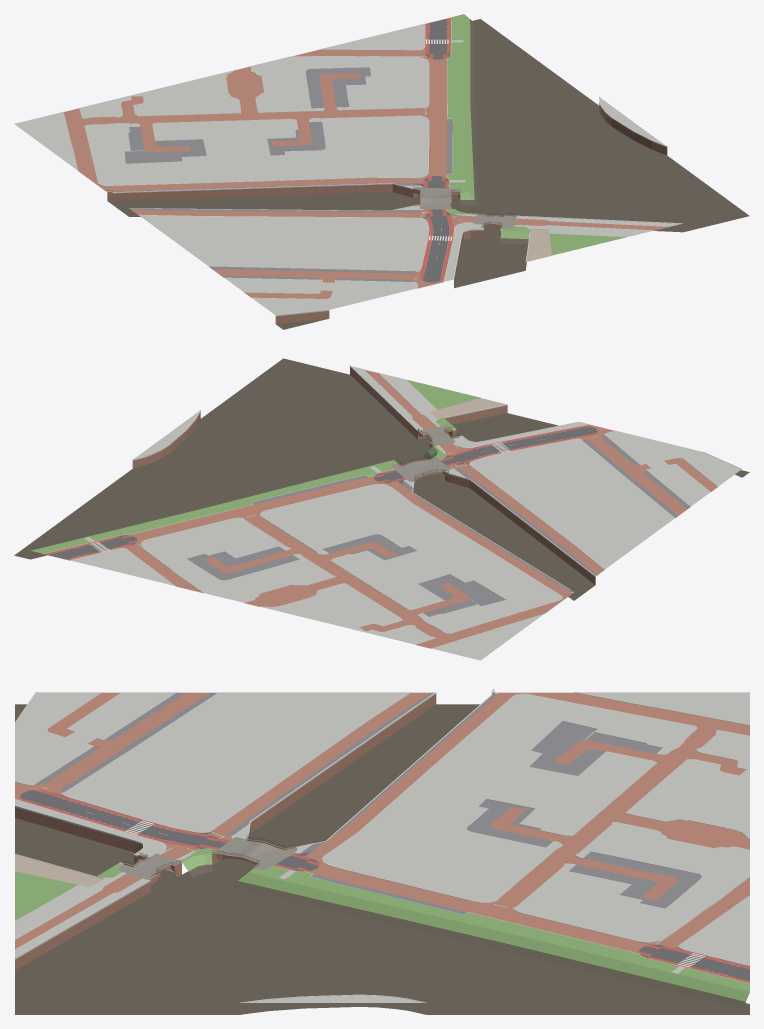
Rendered from ground_11_11.glb.
3 views of the same model, one above another, from view 1: azimuth 30°, elevation 25°; view 2: azimuth 150°, elevation 25°; view 3: azimuth 270°, elevation 25° (orthographic). The views are drawn at different scales.
Visible parts, largest first — view 1: ground_11_11; view 2: ground_11_11; view 3: ground_11_11.
Part boxes in pixels (x1,y1,x2,y2): ground_11_11: (14, 14, 749, 329); ground_11_11: (14, 358, 749, 660); ground_11_11: (14, 689, 749, 1014).
Size of the model in its own units: 200 by 5.15 by 200.
